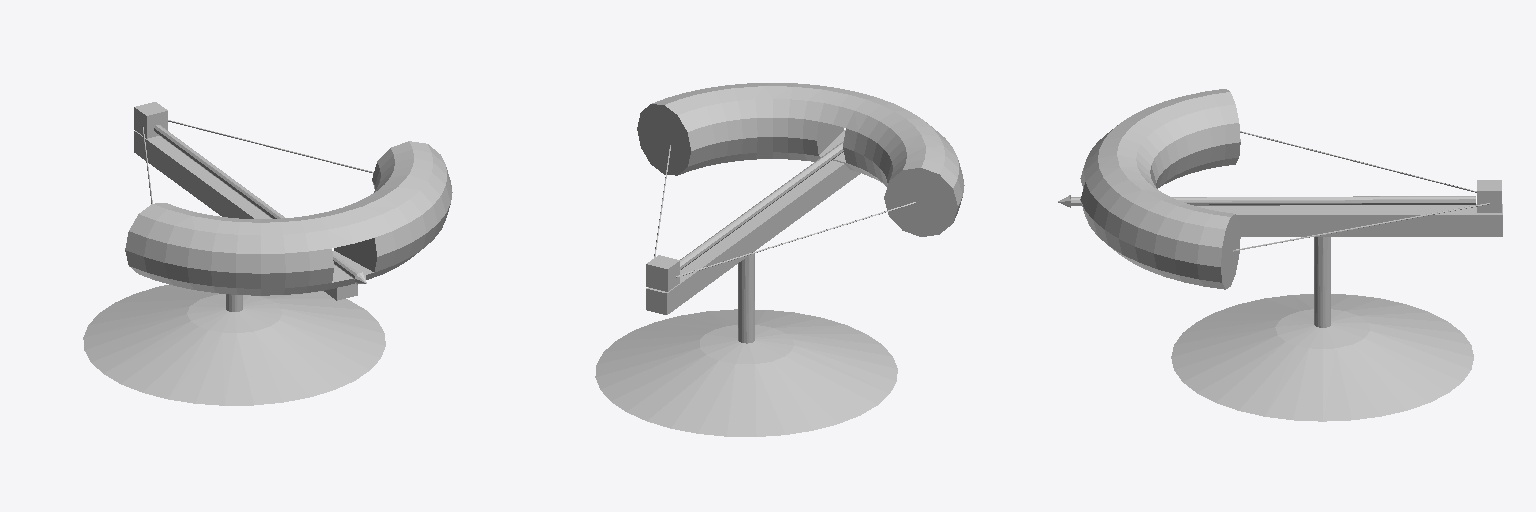
Rendered from ArrowTrap.obj.
3 views of the same model, side by side, from view 1: azimuth 30°, elevation 25°; view 2: azimuth 150°, elevation 25°; view 3: azimuth 270°, elevation 25° (orthographic).
Visible parts, largest first — view 1: Cylinder; view 2: Cylinder; view 3: Cylinder.
Boxes of the visible parts, x1,y1,x2,y2 form: Cylinder: [83, 102, 452, 405]; Cylinder: [595, 83, 964, 436]; Cylinder: [1058, 89, 1502, 421].
Size of the model in its own units: 2.44 by 1.48 by 2.94.